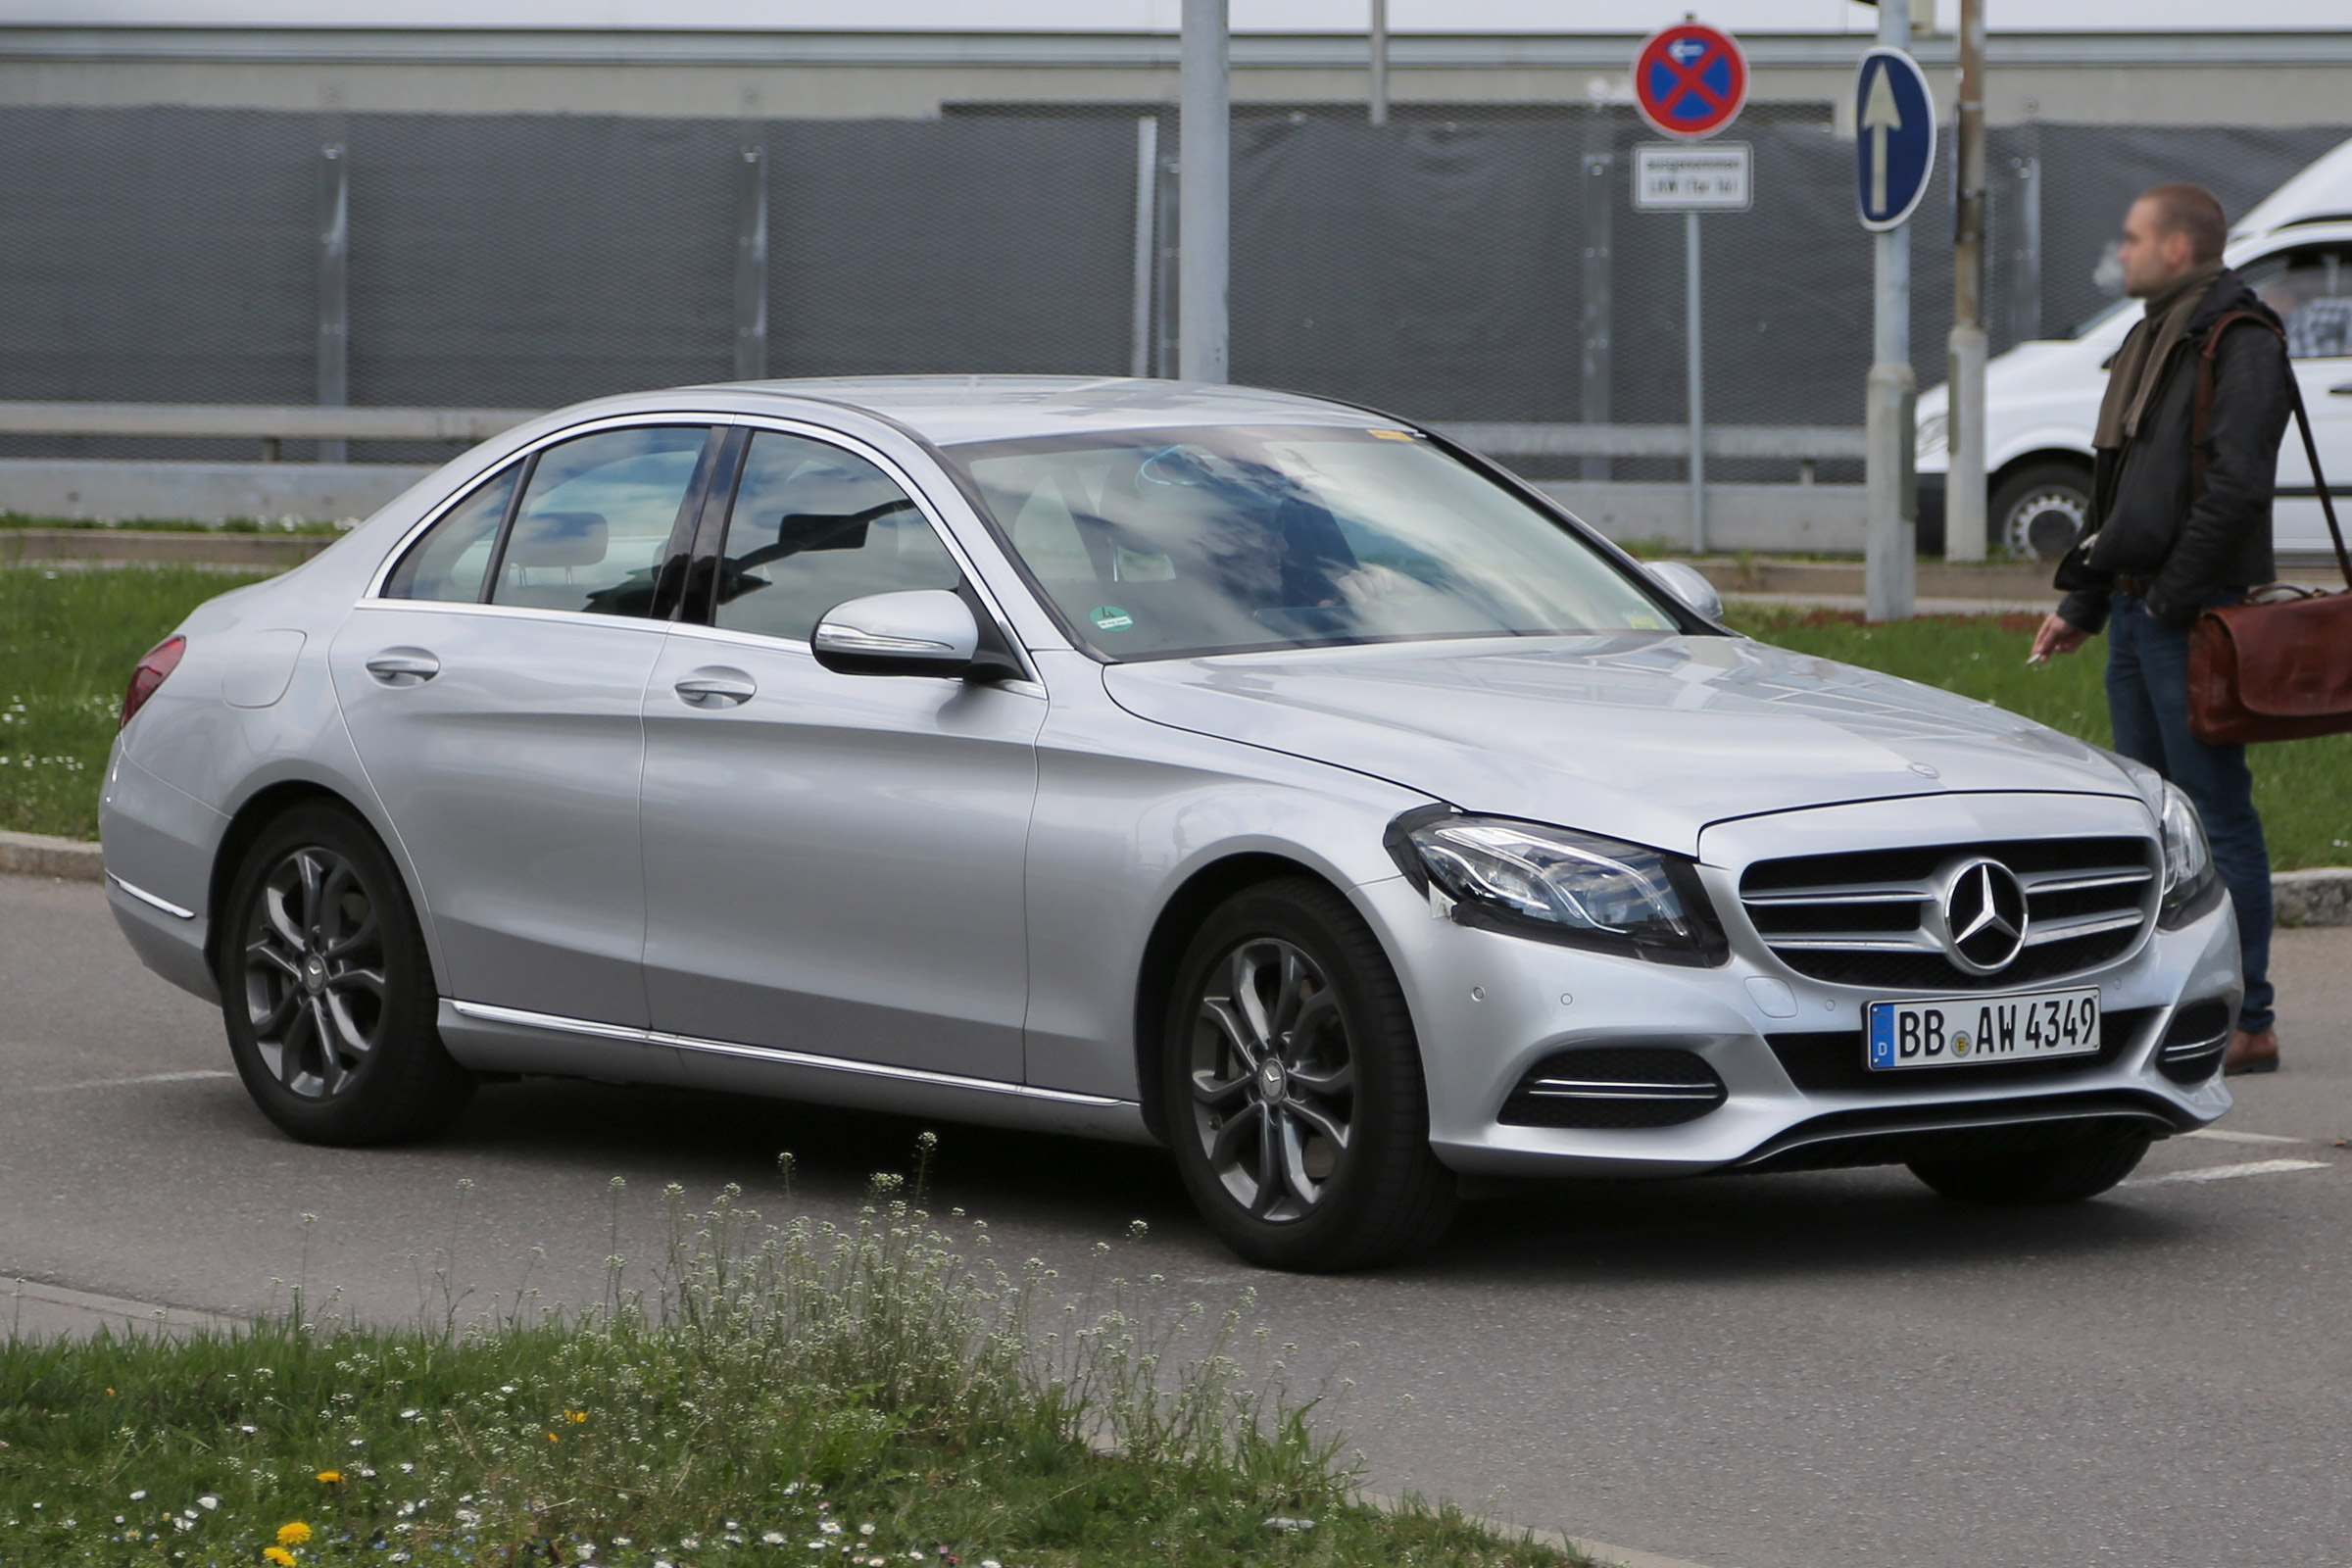cclass: (61, 329, 2331, 1362)
